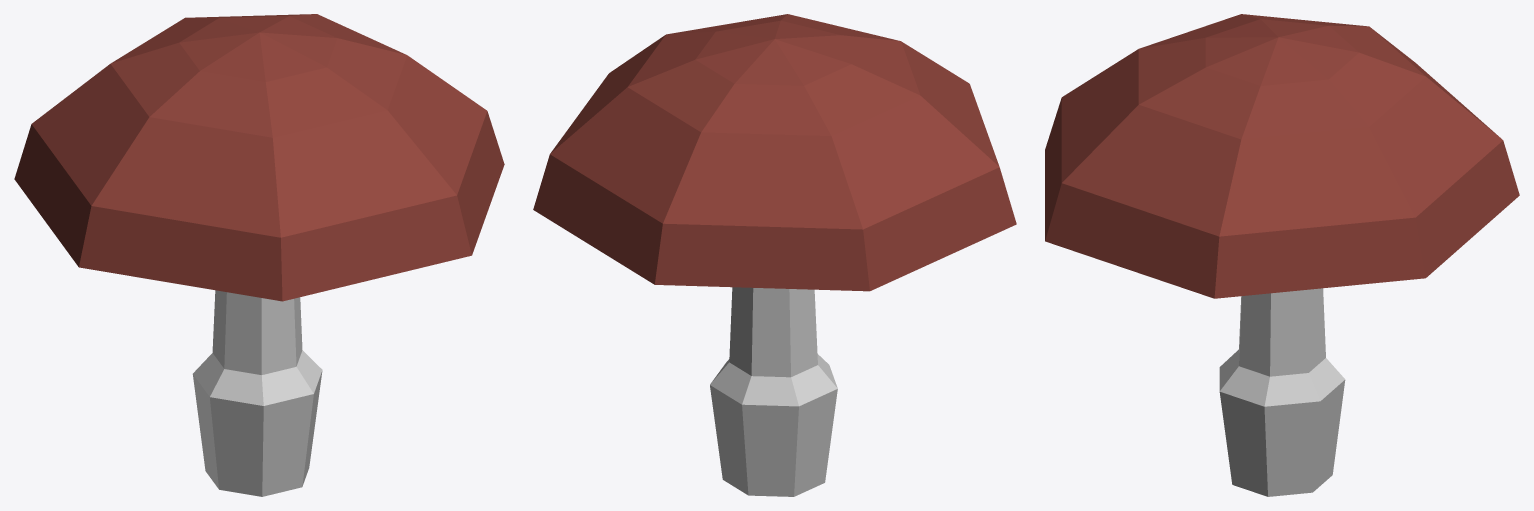
The model's file is Mushroom-transformed.glb.
3 views of the same model, side by side, from view 1: azimuth 30°, elevation 25°; view 2: azimuth 150°, elevation 25°; view 3: azimuth 270°, elevation 25° (orthographic).
Visible parts, largest first — view 1: Mushroom; view 2: Mushroom; view 3: Mushroom.
Part boxes in pixels (x1,y1,x2,y2): Mushroom: (14, 14, 504, 496); Mushroom: (533, 14, 1016, 496); Mushroom: (1045, 14, 1519, 496).
Size of the model in its own units: 0.7057 by 0.7008 by 0.688.
